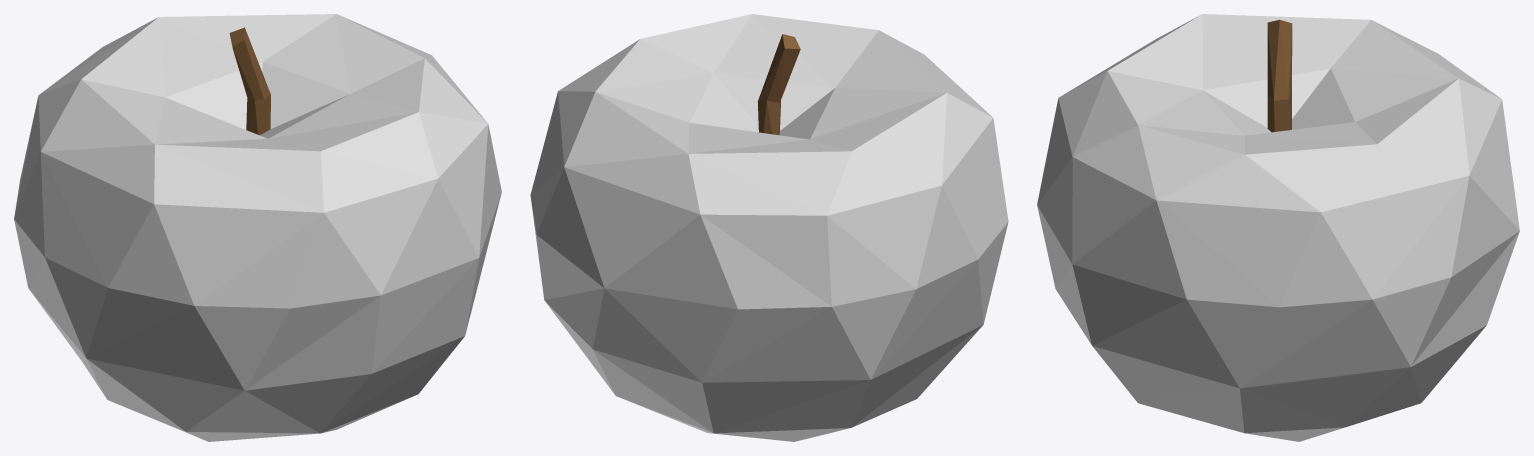
Rendered from Apple.fbx.
3 renders of one model, left to right at view 1: azimuth 30°, elevation 25°; view 2: azimuth 150°, elevation 25°; view 3: azimuth 270°, elevation 25°, orthographic. The views are drawn at different scales.
Visible parts, largest first — view 1: Apple; view 2: Apple; view 3: Apple.
Part boxes in pixels (bbox=[...]): Apple: bbox=[14, 14, 501, 441]; Apple: bbox=[530, 14, 1008, 441]; Apple: bbox=[1037, 14, 1519, 441].
Bounding box in the file's own units: 200 × 170 × 199.
